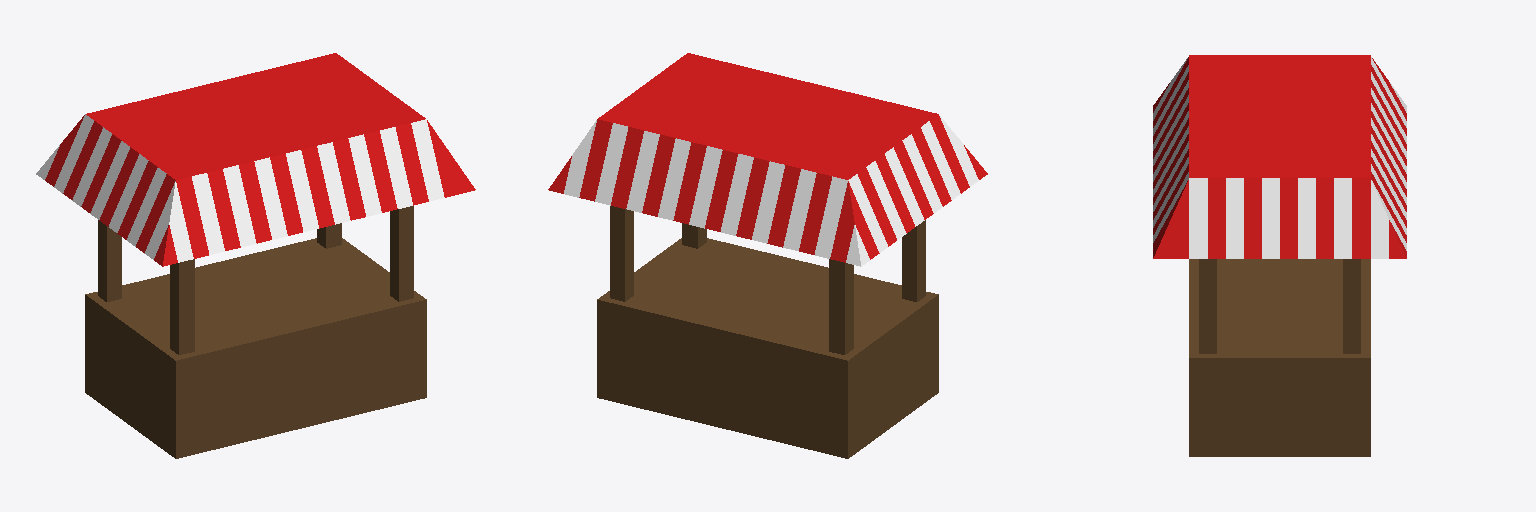
3 renders of one model, left to right at view 1: azimuth 30°, elevation 25°; view 2: azimuth 150°, elevation 25°; view 3: azimuth 270°, elevation 25°, orthographic.
Visible parts, largest first — view 1: cuboid; view 2: cuboid; view 3: cuboid.
Part boxes in pixels (x1,y1,x2,y2): cuboid: (36,53,475,458); cuboid: (548,53,987,458); cuboid: (1153,55,1406,456).
Size of the model in its own units: 1.25 by 1.06 by 0.875.
1 materials, 1 textured.